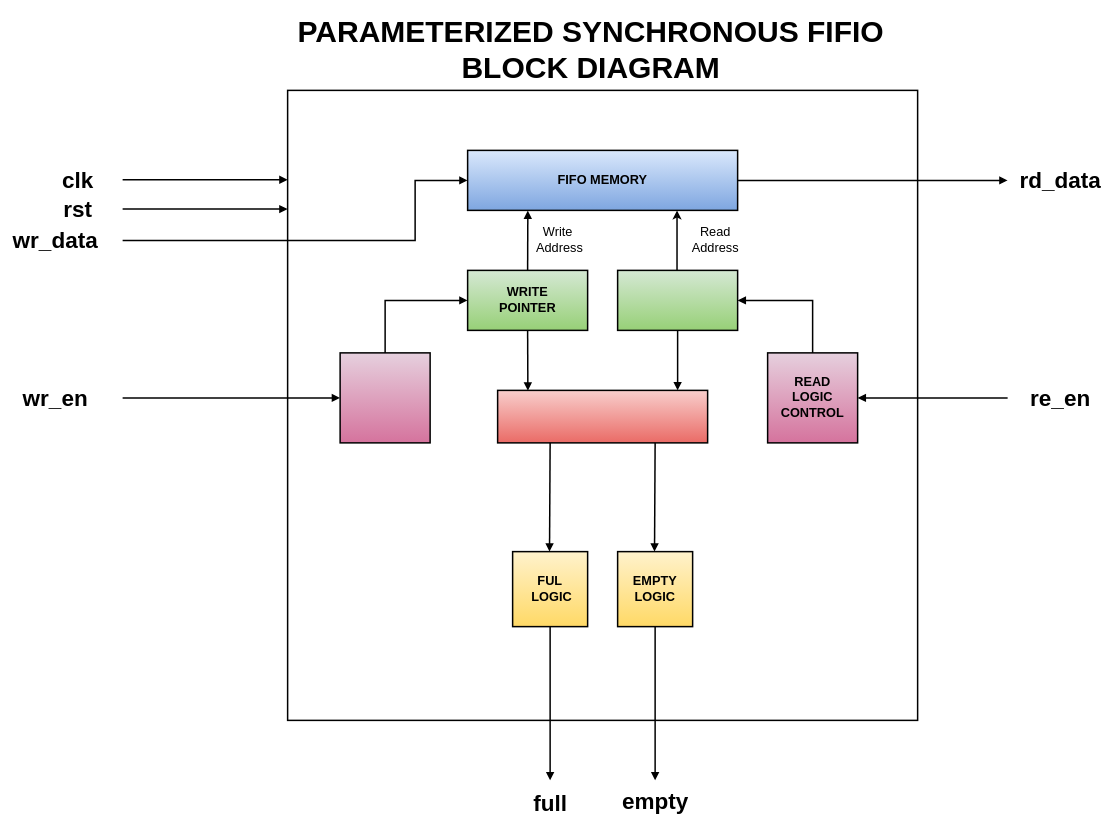
The diagram is 1114 pixels wide and 829 high, and some of its shapes have lost their labels. The shapes that lost their labels are listed below. From the top down, each one's box as (x1, y1, x2, y2) in pixels, then its label:
(616, 269, 738, 331): READ POINTER
(339, 352, 430, 443): WRITE LOGIC CONTROL
(496, 389, 708, 443): FIFO COUNTER
